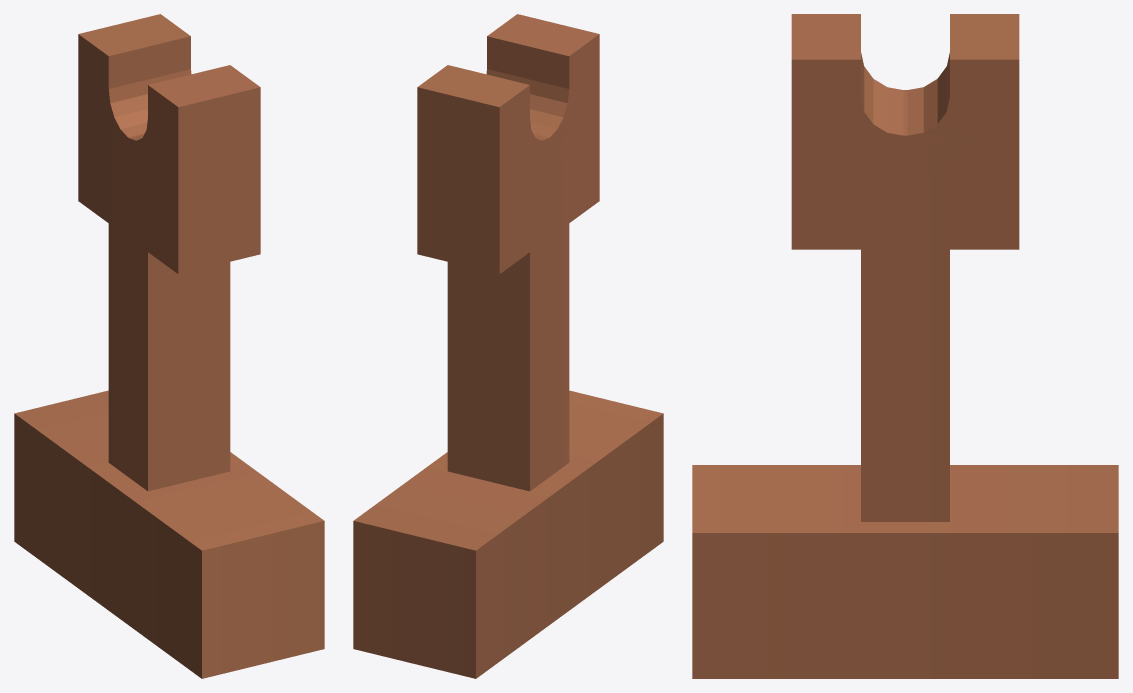
File: WeaponHolder_002.fbx
3 views of the same model, side by side, from view 1: azimuth 30°, elevation 25°; view 2: azimuth 150°, elevation 25°; view 3: azimuth 270°, elevation 25° (orthographic). The views are drawn at different scales.
Visible parts, largest first — view 1: WeaponHolder.002; view 2: WeaponHolder.002; view 3: WeaponHolder.002.
Boxes of the visible parts, x1=… form: WeaponHolder.002: x1=14, y1=14, x2=324, y2=678; WeaponHolder.002: x1=353, y1=14, x2=663, y2=678; WeaponHolder.002: x1=692, y1=14, x2=1118, y2=678.
Bounding box in the file's own units: 0.2032 × 0.8474 × 0.5386.
